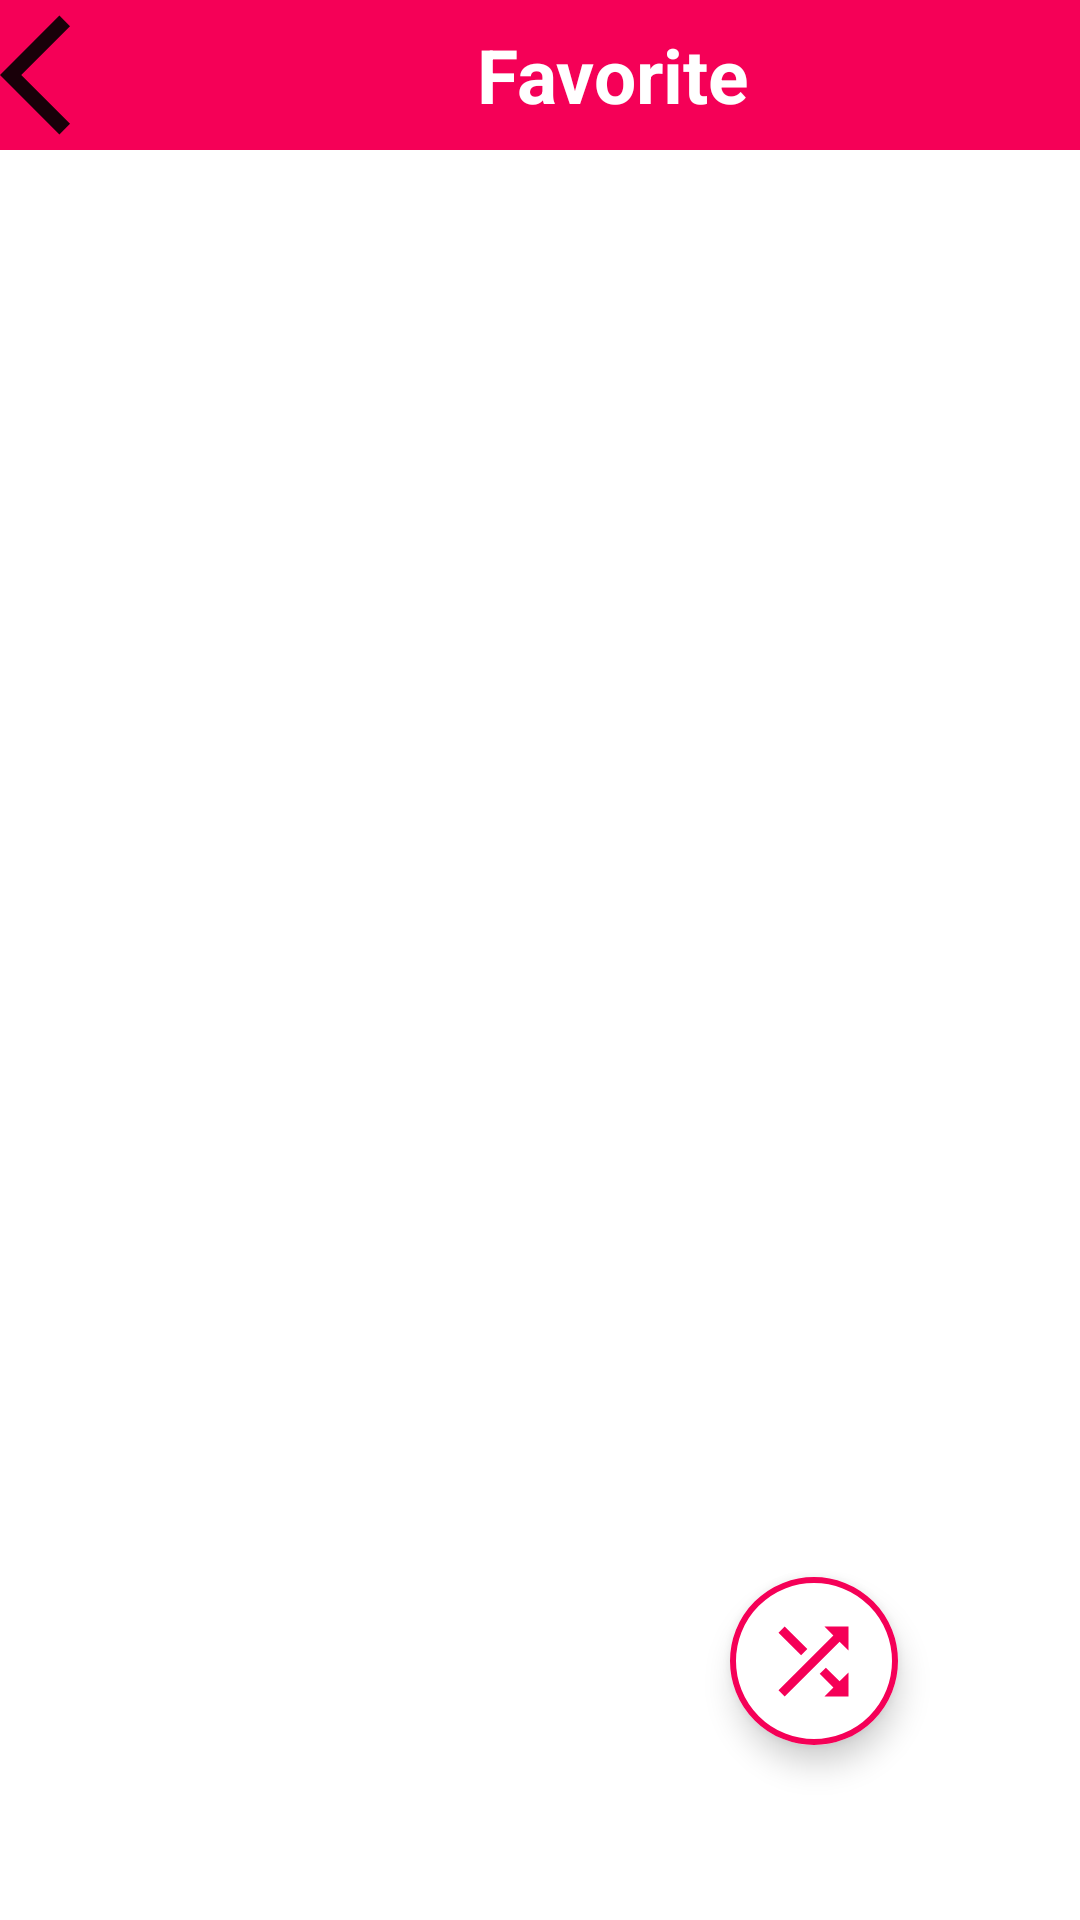

Icons on this 1080*1920 Android screen, each with its box as (x1, y1, x2, y2):
arrow back: (0, 15, 70, 135)
shuffle: (730, 1577, 898, 1745)
